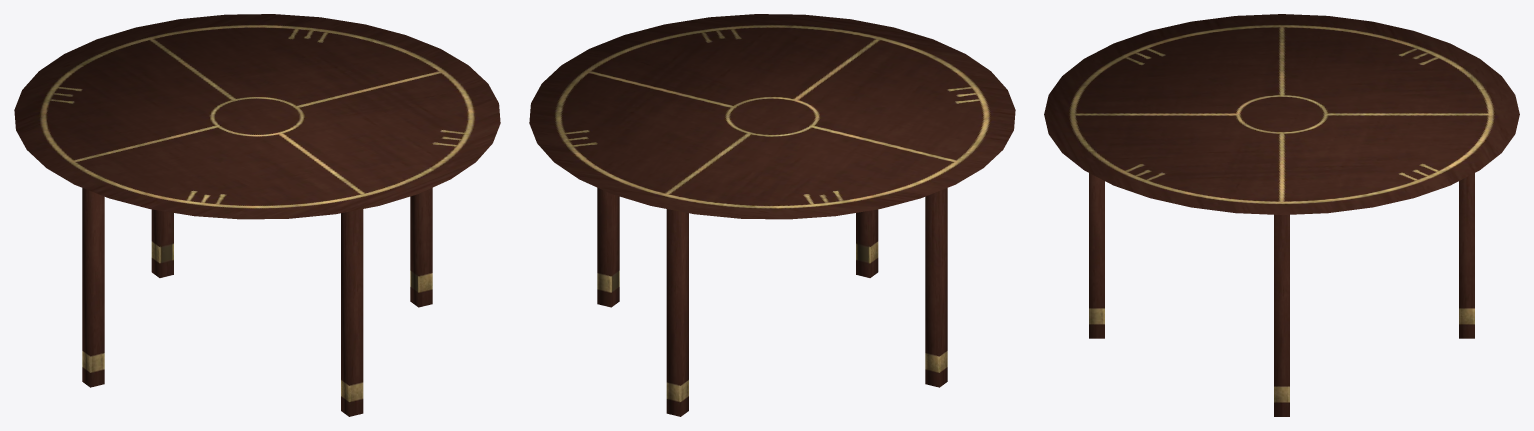
Rendered from table.glb.
3 renders of one model, left to right at view 1: azimuth 30°, elevation 25°; view 2: azimuth 150°, elevation 25°; view 3: azimuth 270°, elevation 25°, orthographic. The views are drawn at different scales.
Visible parts, largest first — view 1: Table_Low; view 2: Table_Low; view 3: Table_Low.
Boxes of the visible parts, x1,y1,x2,y2 form: Table_Low: (14,14,500,416); Table_Low: (529,14,1015,416); Table_Low: (1044,14,1519,416).
Size of the model in its own units: 6 by 3.07 by 6.
Materials: 1 (1 with a texture image).
